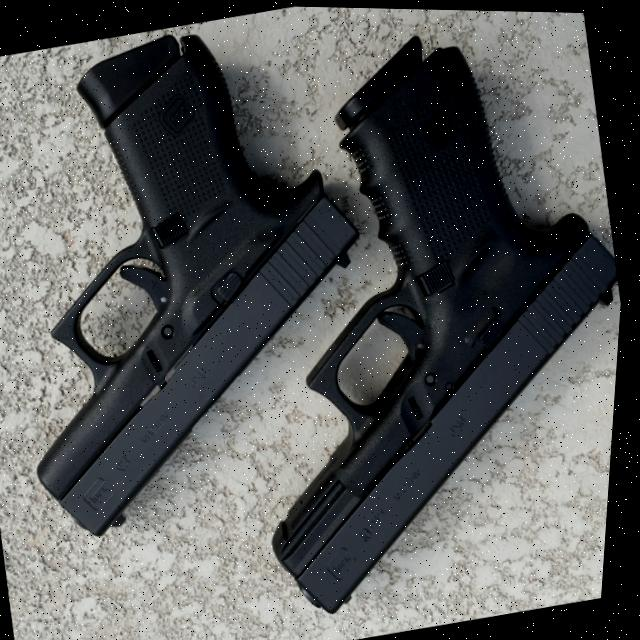pistol: (184, 4, 640, 627), (0, 0, 422, 549)
